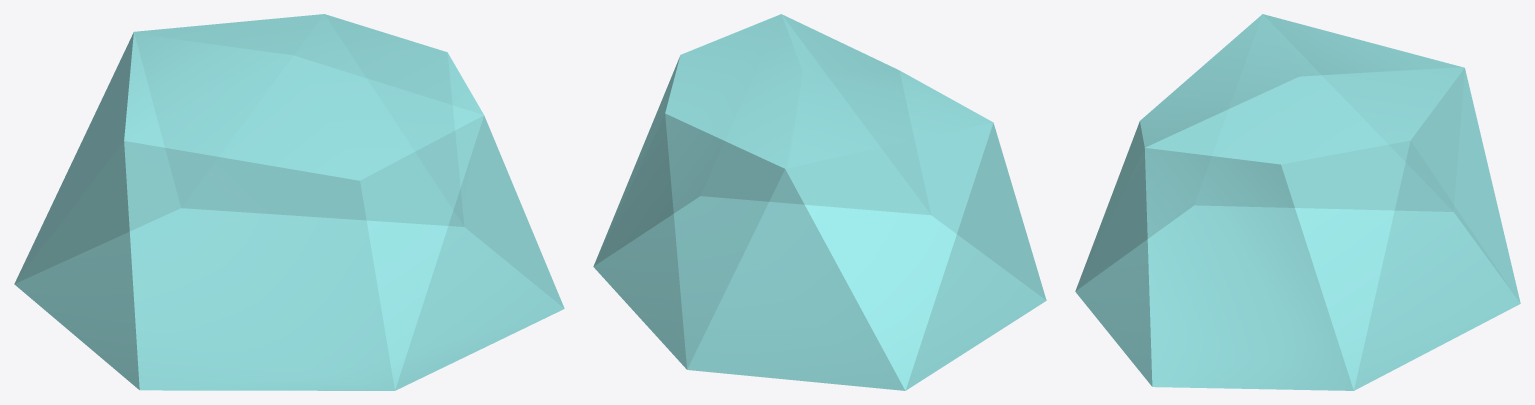
Rendered from Rock_Small_Ice_01.fbx.
3 views of the same model, side by side, from view 1: azimuth 30°, elevation 25°; view 2: azimuth 150°, elevation 25°; view 3: azimuth 270°, elevation 25° (orthographic). The views are drawn at different scales.
Visible parts, largest first — view 1: Model; view 2: Model; view 3: Model.
Boxes of the visible parts, <box> form: Model: <box>14,14,564,390</box>; Model: <box>593,14,1046,390</box>; Model: <box>1075,14,1520,390</box>.
Size of the model in its own units: 168 by 119 by 171.
